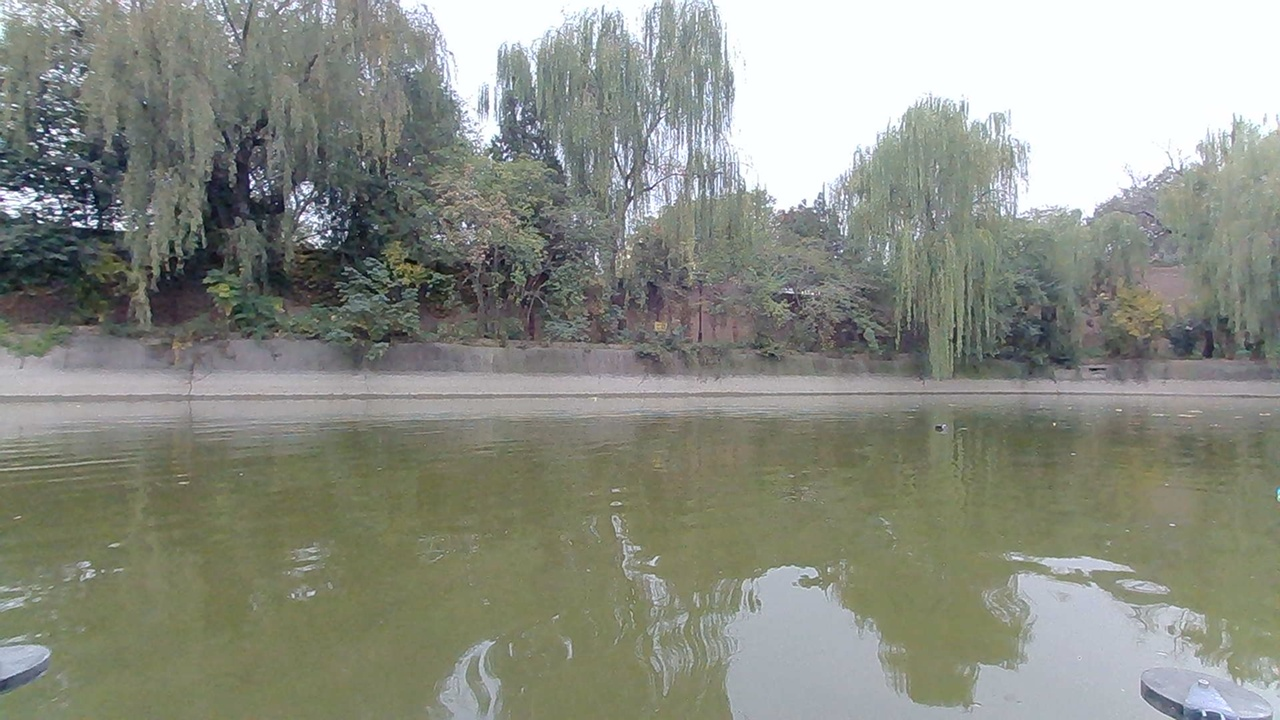bottle: (929, 410, 957, 436), (1261, 478, 1280, 507)
